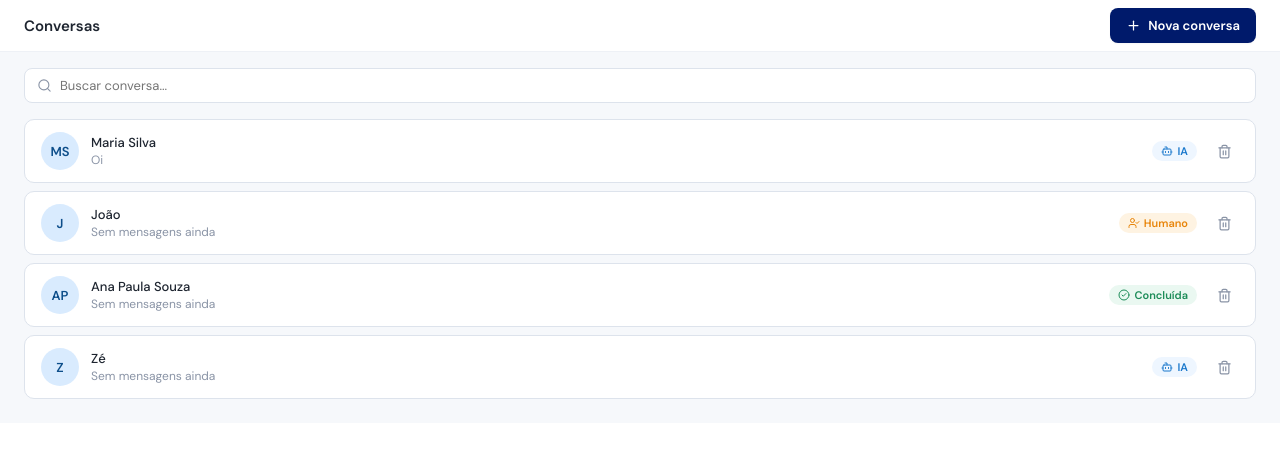
it: ListaConversas › mostra o erro quando apagar falha e mantém a conversa
The image size is (1280, 453).
Expected: the text "Maria Silva" is shown, 91,134 -> 156,151
Click the button named "Apagar conversa" in the row of "Maria Silva".
click(1224, 151)  # box 1209,136 -> 1239,166
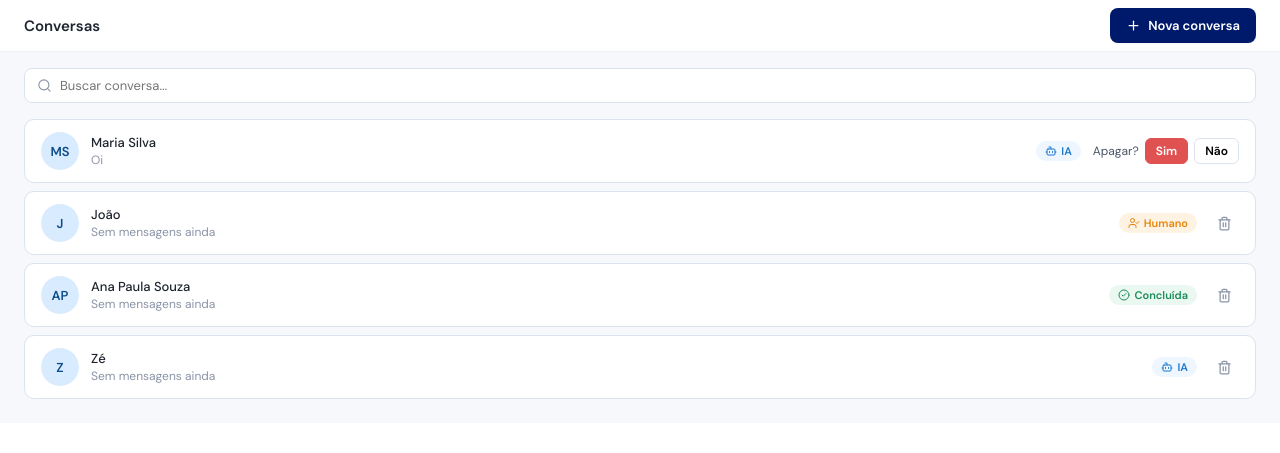
Click the button "Sim".
click(1167, 151)  # box 1145,138 -> 1188,164
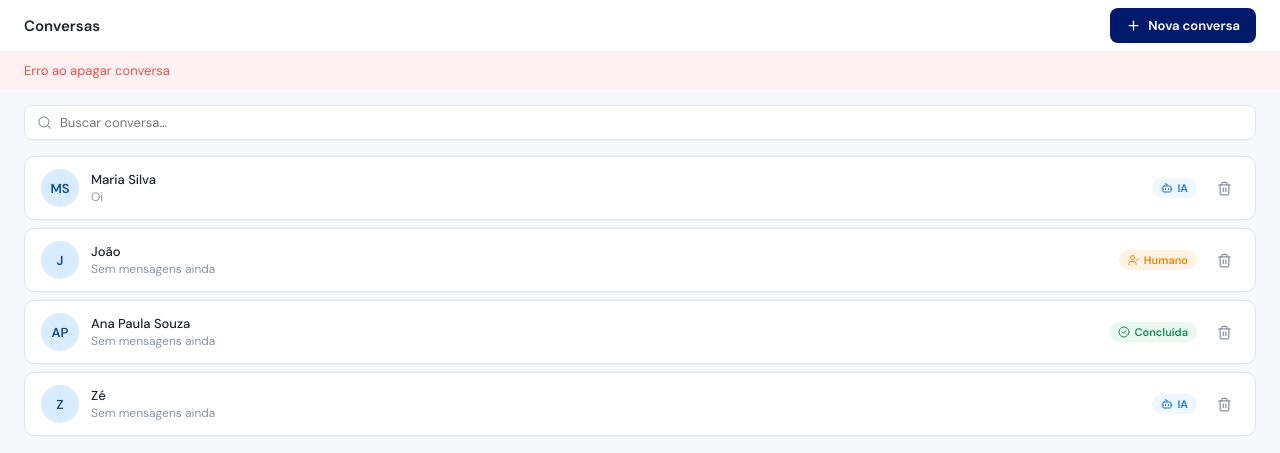
Expected: the text "Maria Silva" is shown, 91,171 -> 156,188
Result: the text "Erro ao apagar conversa" is shown at 0,52 -> 1279,89
